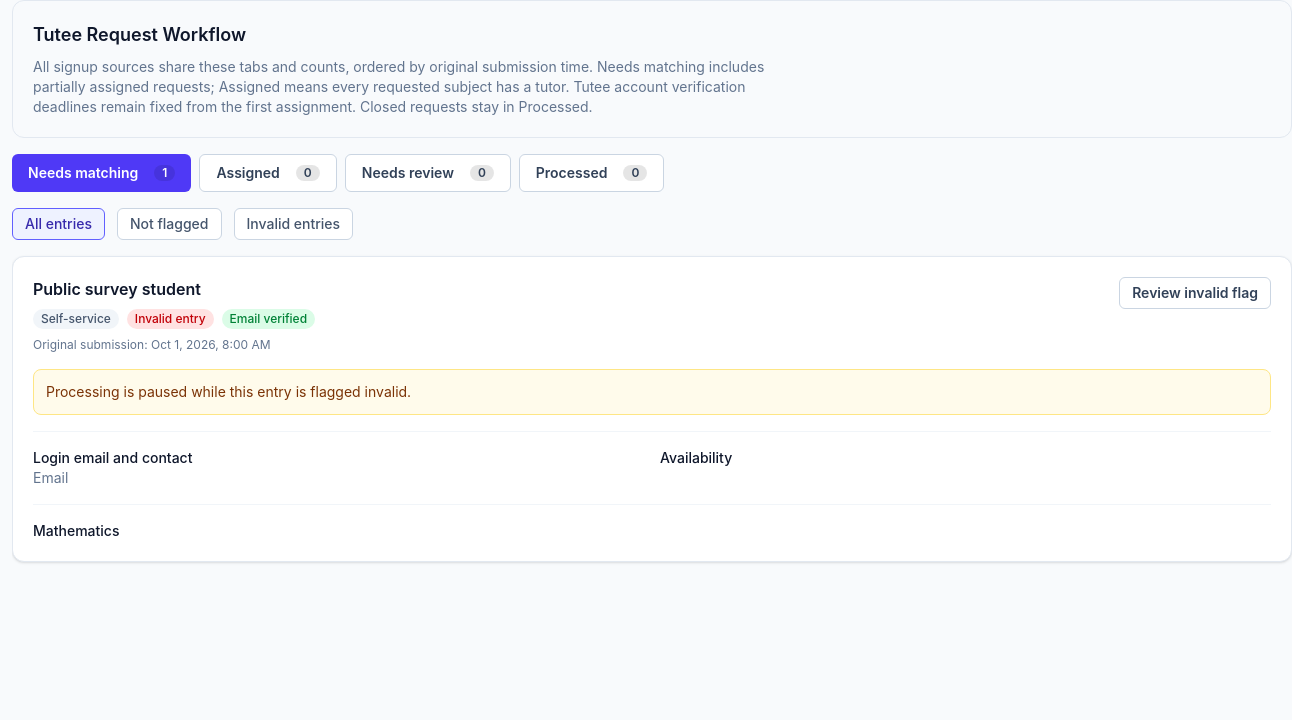
keeps a flagged public request visible in its original queue without assignment controls or inline private reason
The width and height of the screenshot is (1292, 720).
Expected: the heading "Public survey student" is shown, [33,279,201,299]
Expected: the text "Invalid entry" is shown, [127,309,214,329]
Click the button "Not flagged" at (169, 224), box [117,208,222,240]
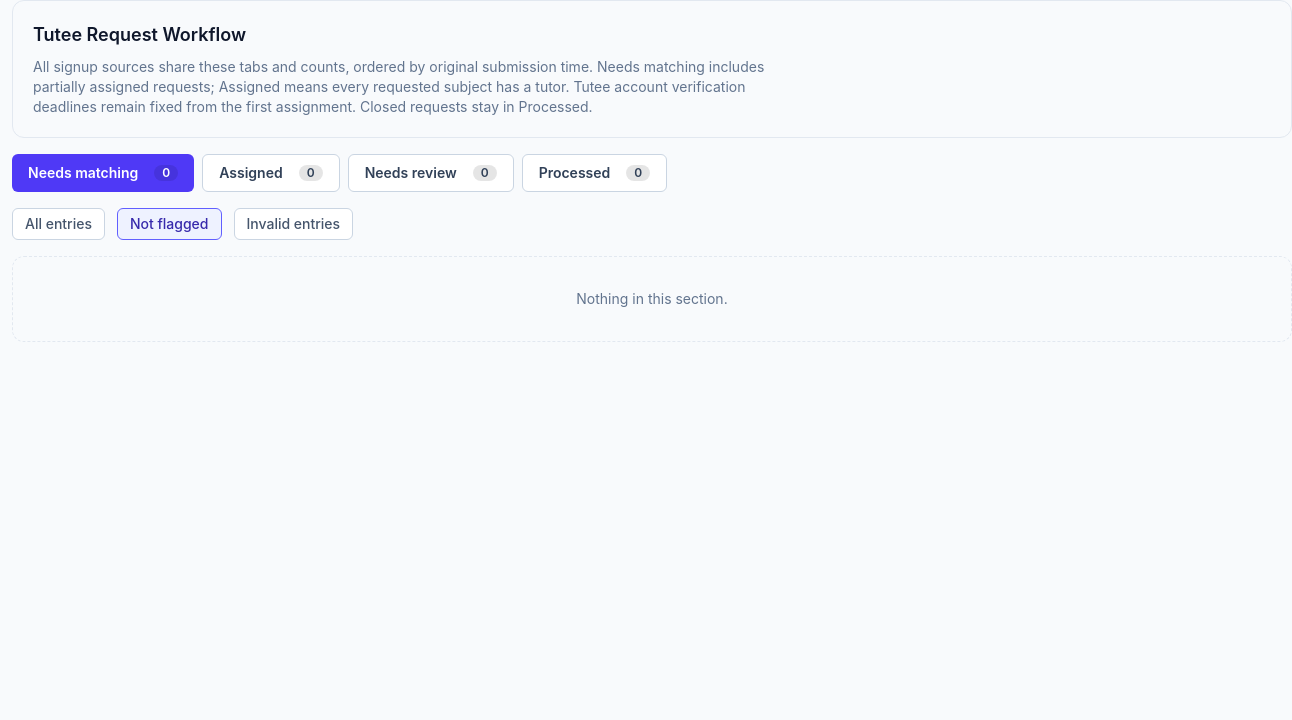
Expected: the heading "Public survey student" is gone
Click the button "Invalid entries" at (293, 224), box [234,208,353,240]
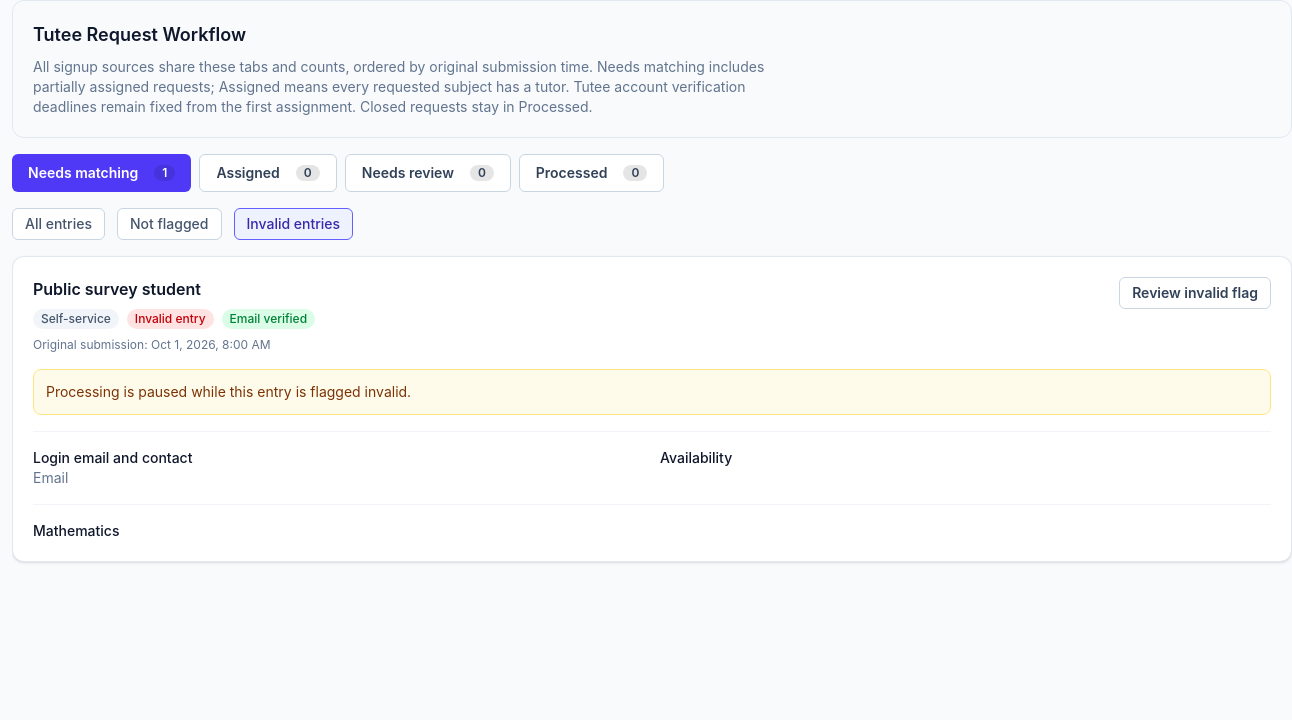
Expected: the heading "Public survey student" is shown, [33,279,201,299]
